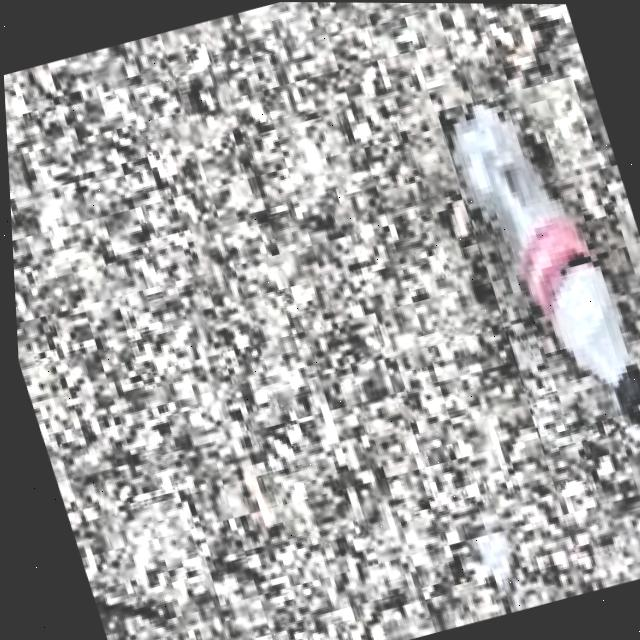plastic: (434, 74, 640, 450)
